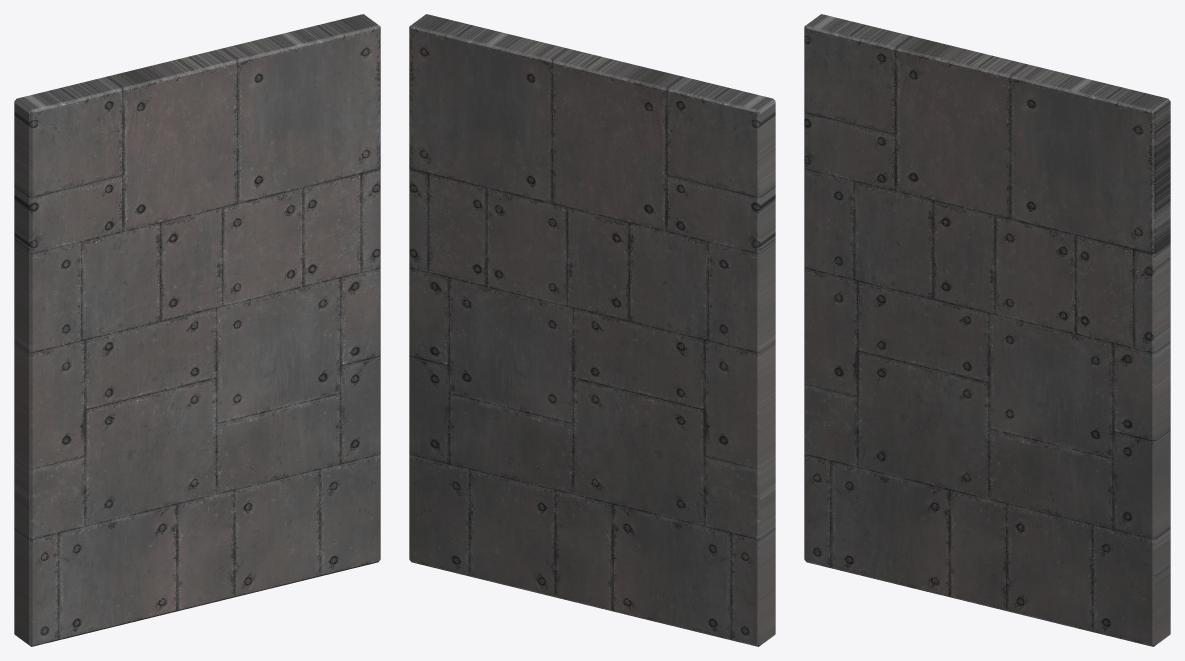
Rendered from SatelliteDoor.fbx.
The picture shows the model from 3 angles, left to right: view 1: azimuth 30°, elevation 25°; view 2: azimuth 150°, elevation 25°; view 3: azimuth 330°, elevation 25°; orthographic projection.
Parts seen in each view (by area): view 1: Door; view 2: Door; view 3: Door.
Boxes of the visible parts, x1=… form: Door: x1=14, y1=14, x2=380, y2=646; Door: x1=409, y1=14, x2=775, y2=646; Door: x1=804, y1=14, x2=1170, y2=646.
Size of the model in its own units: 1.51 by 2.2 by 0.13.
